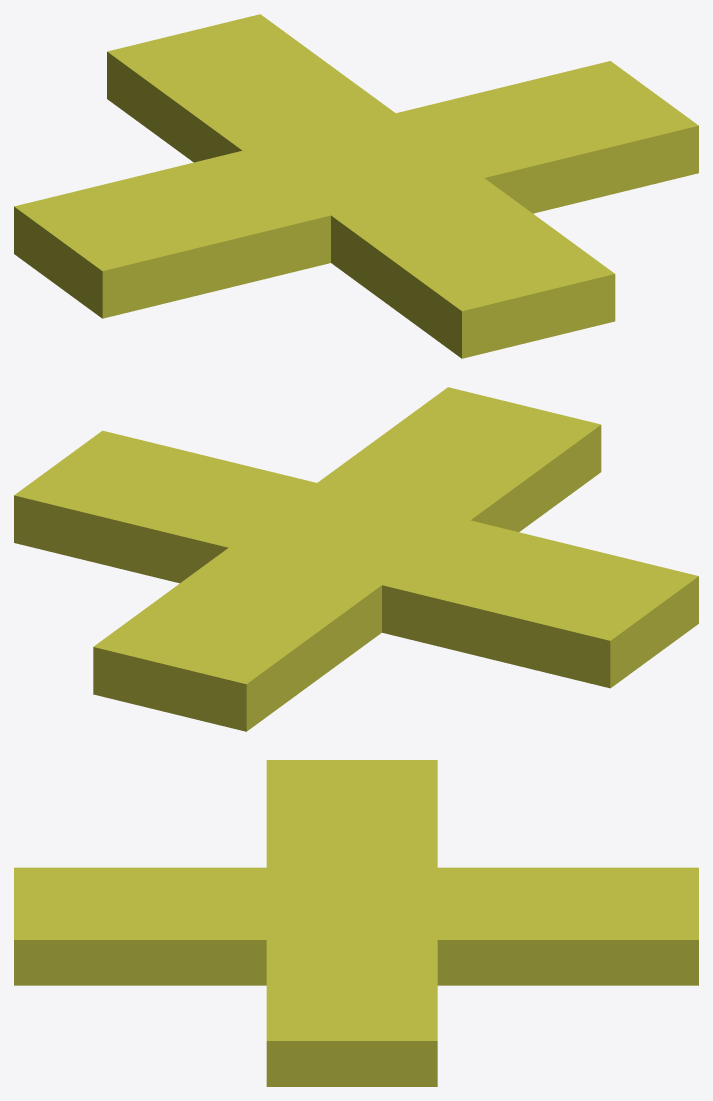
3 views of the same model, one above another, from view 1: azimuth 30°, elevation 25°; view 2: azimuth 150°, elevation 25°; view 3: azimuth 270°, elevation 25° (orthographic). The views are drawn at different scales.
Visible parts, largest first — view 1: plus; view 2: plus; view 3: plus.
Boxes of the visible parts, x1=… form: plus: x1=14, y1=14, x2=698, y2=358; plus: x1=14, y1=387, x2=698, y2=731; plus: x1=14, y1=760, x2=698, y2=1086.
Size of the model in its own units: 21.01 by 1.6 by 21.65.
